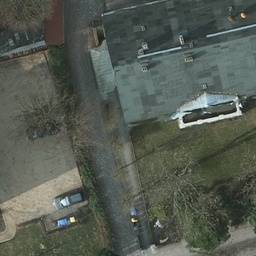car: (52, 188, 84, 210)
